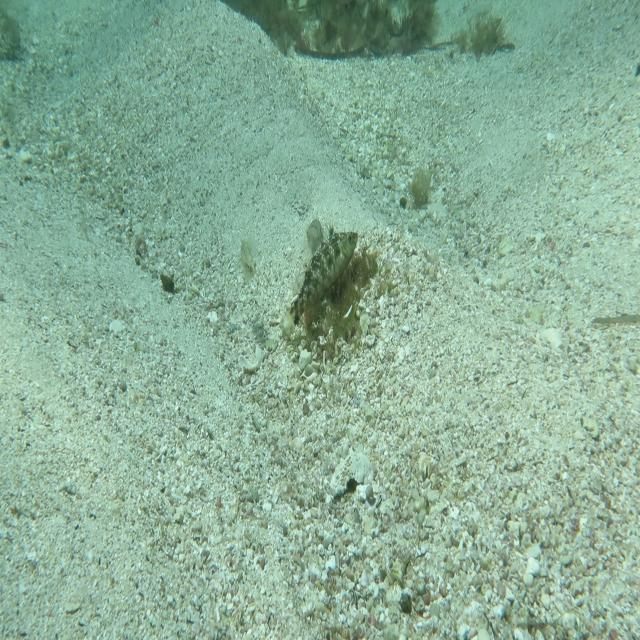ROLL: (274, 221, 360, 344)
female: (300, 215, 329, 270)
nest: (284, 242, 381, 362)
other_fish: (233, 232, 266, 288)
